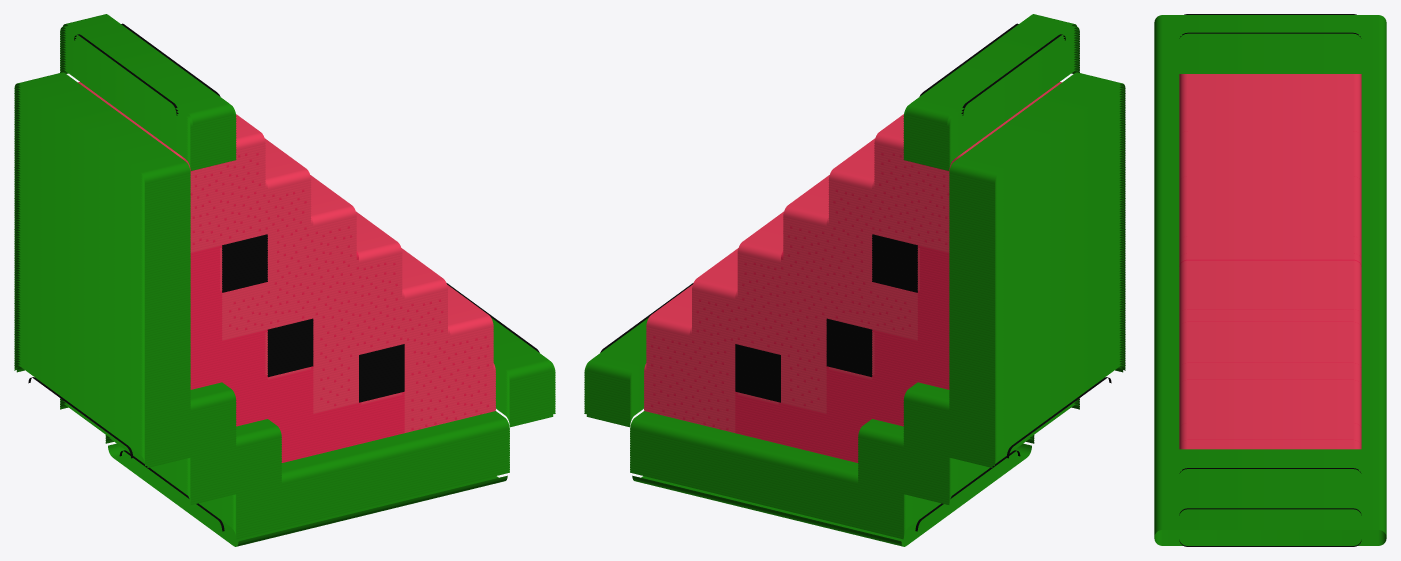
Rendered from pixel_melon.fbx.
3 views of the same model, side by side, from view 1: azimuth 30°, elevation 25°; view 2: azimuth 150°, elevation 25°; view 3: azimuth 270°, elevation 25° (orthographic). The views are drawn at different scales.
Visible parts, largest first — view 1: Curve.007, Curve.008, Curve.010, Curve.005; view 2: Curve.007, Curve.008, Curve.010, Curve.005; view 3: Curve.008, Curve.007, Curve.005, Curve.010.
Boxes of the visible parts, x1=… form: Curve.007: x1=14, y1=14, x2=555, y2=546; Curve.008: x1=78, y1=82, x2=495, y2=432; Curve.010: x1=190, y1=153, x2=488, y2=462; Curve.005: x1=28, y1=23, x2=539, y2=531; Curve.007: x1=584, y1=14, x2=1125, y2=546; Curve.008: x1=644, y1=82, x2=1061, y2=432; Curve.010: x1=651, y1=153, x2=949, y2=462; Curve.005: x1=600, y1=23, x2=1111, y2=531; Curve.008: x1=1179, y1=74, x2=1361, y2=449; Curve.007: x1=1154, y1=15, x2=1386, y2=545; Curve.005: x1=1179, y1=14, x2=1361, y2=546; Curve.010: x1=1179, y1=131, x2=1361, y2=441.
Bounding box in the file's own units: 22.69 × 23.45 × 12.5.
